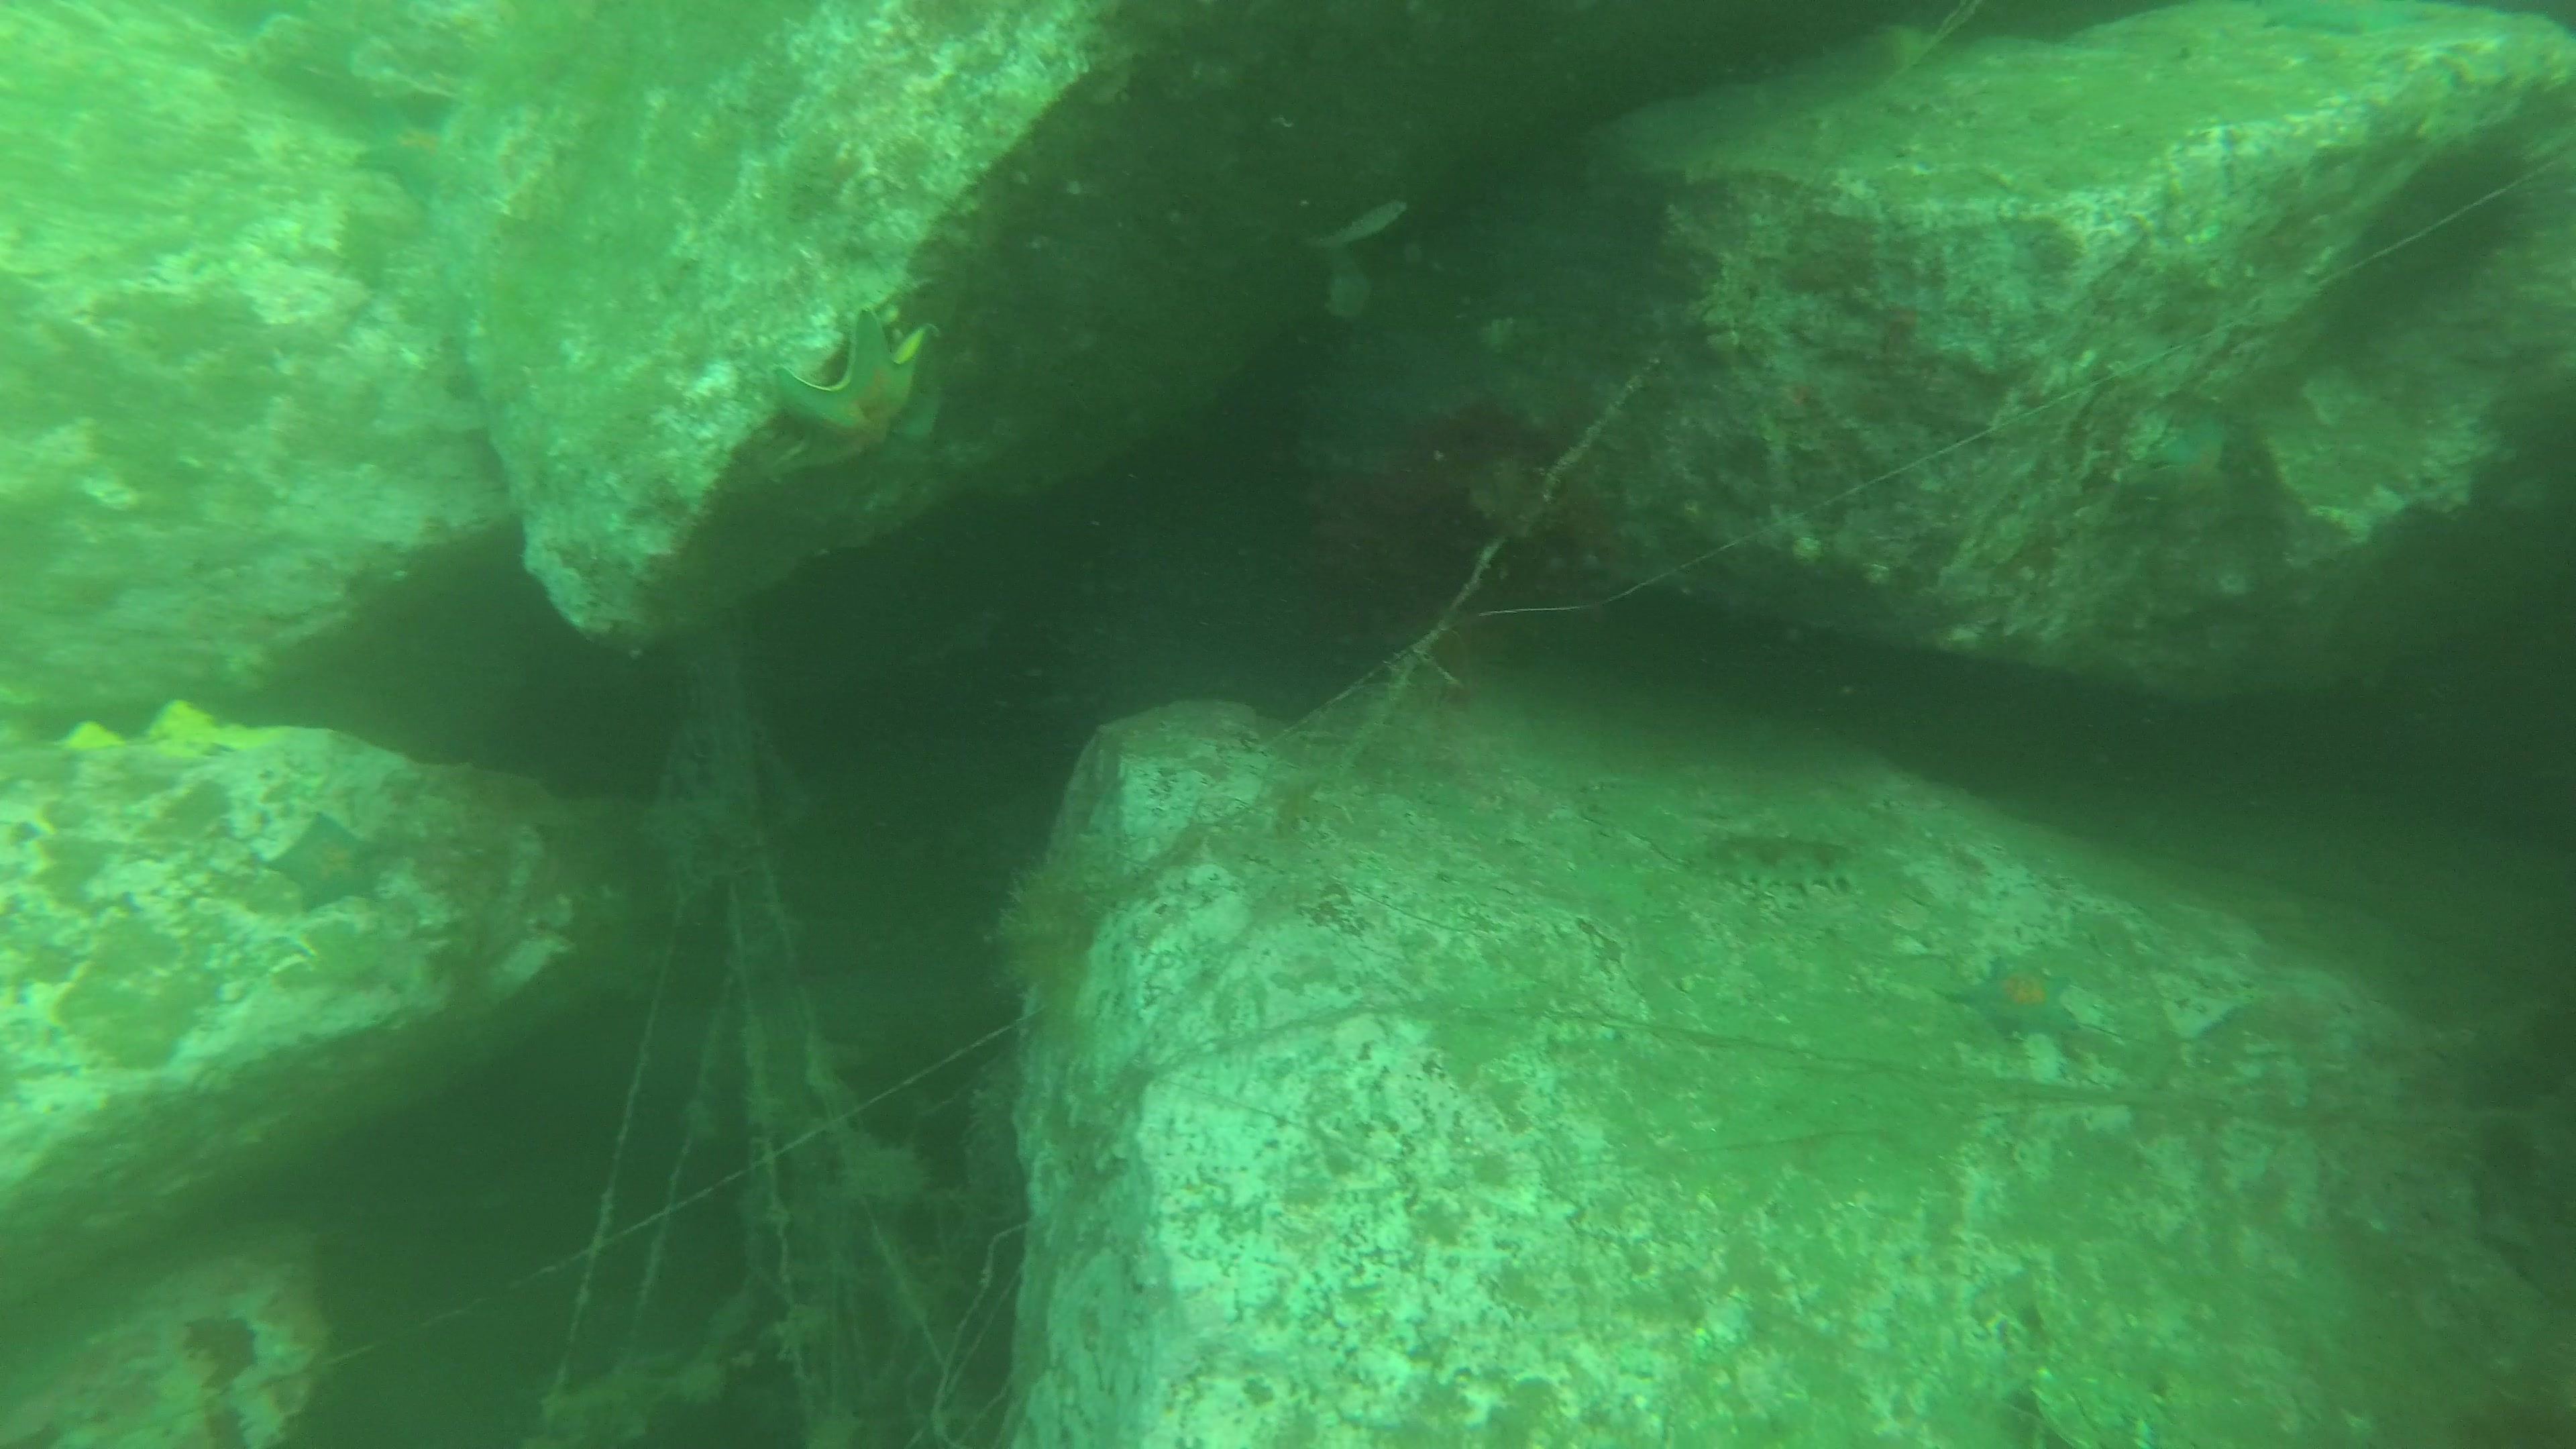holothurian: (1698, 839, 1877, 909)
starfish: (763, 303, 943, 492), (1573, 759, 1727, 872), (257, 805, 405, 915), (1941, 943, 2093, 1042), (2128, 416, 2240, 524), (2212, 977, 2348, 1056), (349, 106, 448, 214), (2254, 2, 2426, 34)
